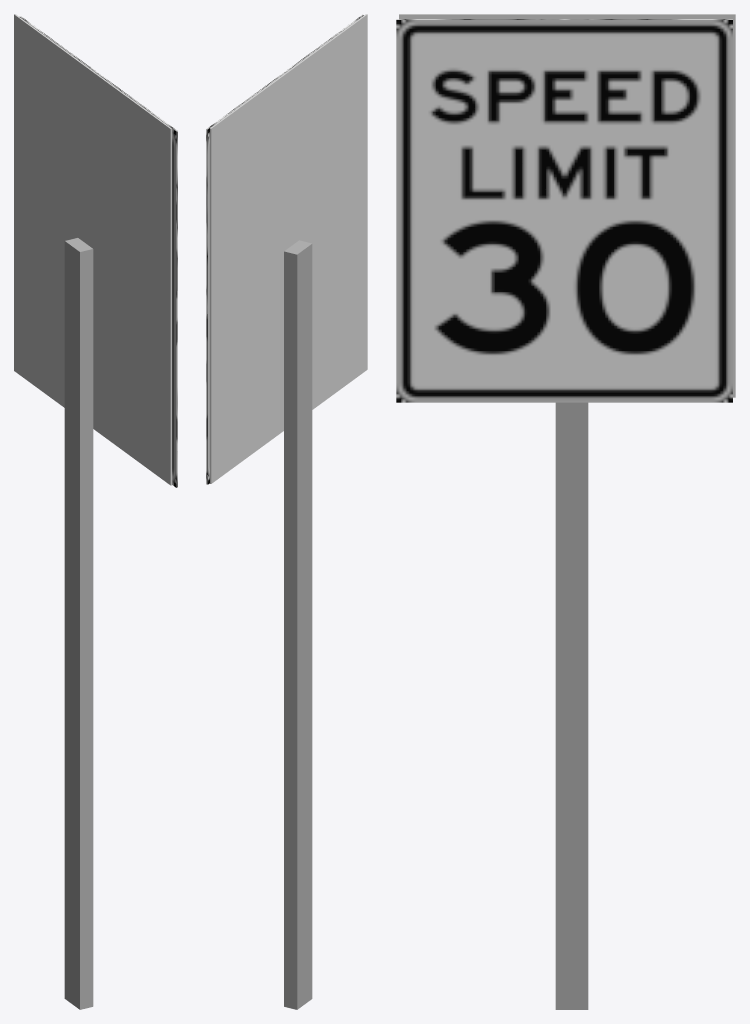
Rendered from speedlim_30.dae.
The picture shows the model from 3 angles, left to right: view 1: azimuth 30°, elevation 25°; view 2: azimuth 150°, elevation 25°; view 3: azimuth 270°, elevation 25°; orthographic projection. The views are drawn at different scales.
Visible parts, largest first — view 1: Cube_002, Cube_001, Cube; view 2: Cube_002, Cube_001, Cube; view 3: Cube, Cube_001, Cube_002.
Part boxes in pixels (bbox=[...]): Cube_002: bbox=[14, 14, 172, 485]; Cube_001: bbox=[64, 238, 93, 1009]; Cube: bbox=[20, 16, 177, 487]; Cube_002: bbox=[210, 14, 367, 483]; Cube_001: bbox=[284, 240, 312, 1009]; Cube: bbox=[206, 14, 363, 484]; Cube: bbox=[396, 19, 732, 402]; Cube_001: bbox=[555, 402, 588, 1009]; Cube_002: bbox=[399, 14, 735, 397].
Size of the model in its own units: 0.0799 by 0.9209 by 2.99.
